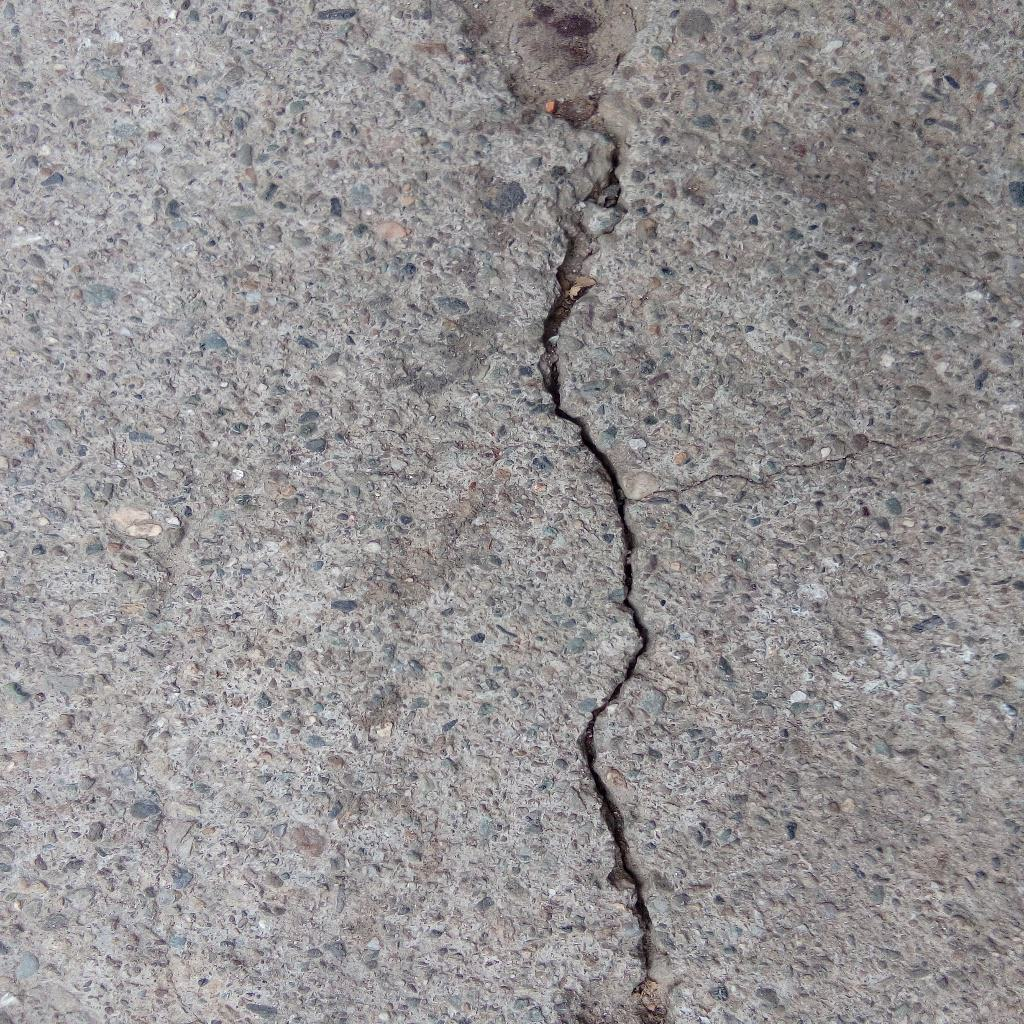Crack: (537, 131, 656, 973), (628, 450, 860, 503)
Spalling: (454, 1, 638, 126), (553, 973, 689, 1024)
